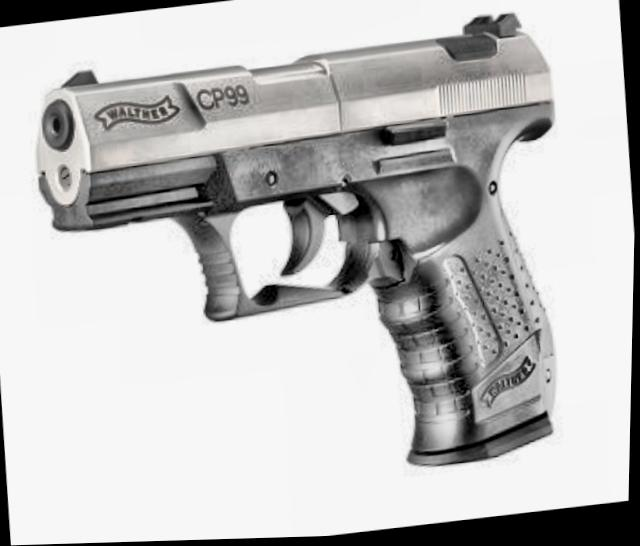pistol: (20, 8, 588, 514)
